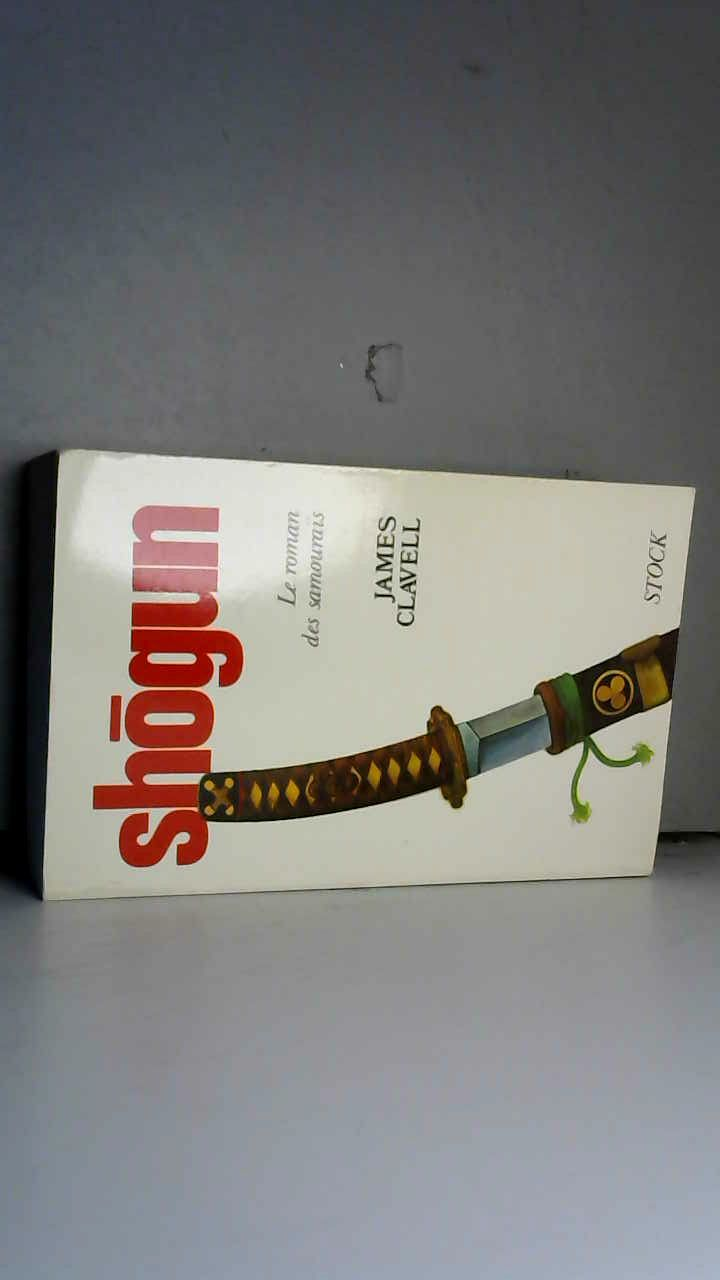book: (10, 425, 706, 922)
